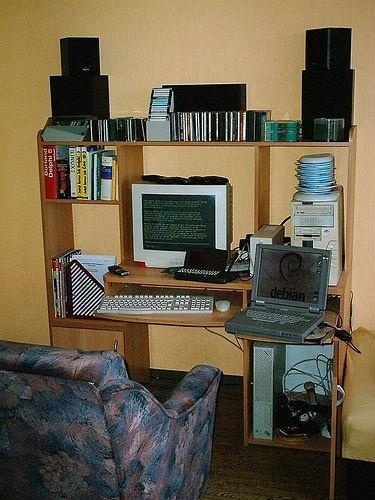chair: (1, 339, 224, 500)
tvmonitor: (133, 185, 231, 273)
